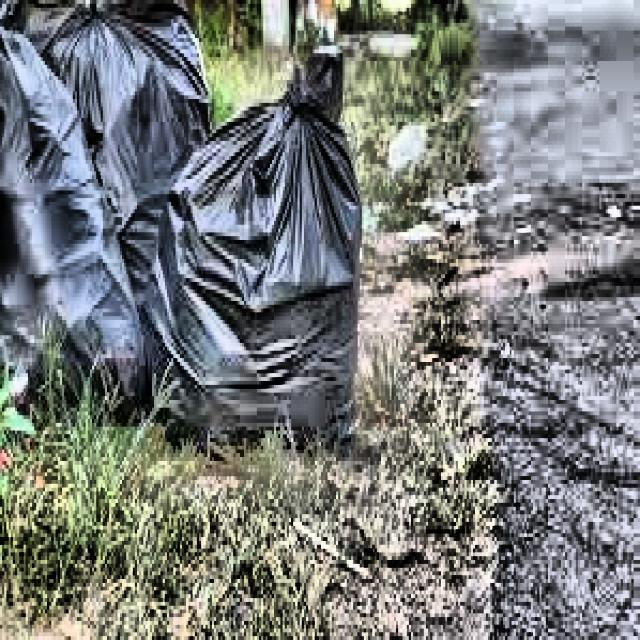garbage: (0, 0, 351, 442)
